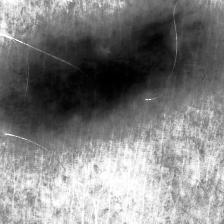Benign Marking or Mole: (5, 25, 203, 118)
